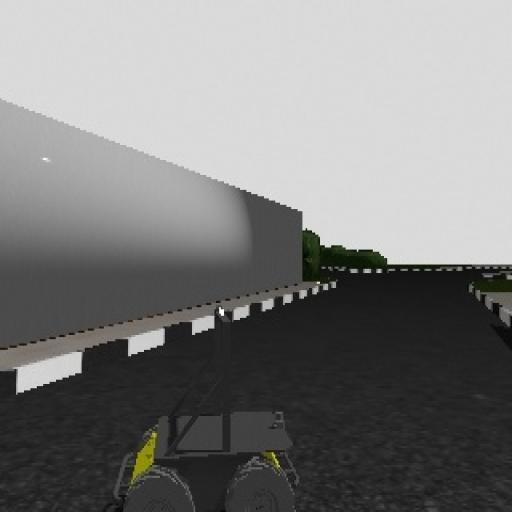huskya200: (110, 297, 310, 512)
